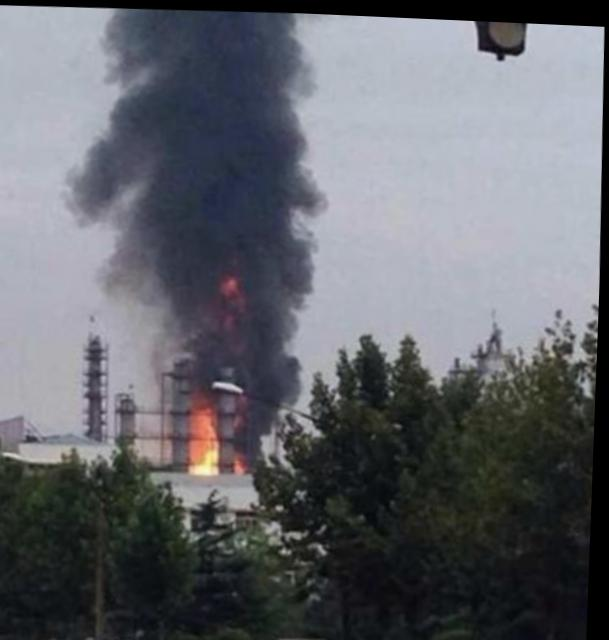fire: (189, 389, 222, 473), (235, 449, 251, 473)
